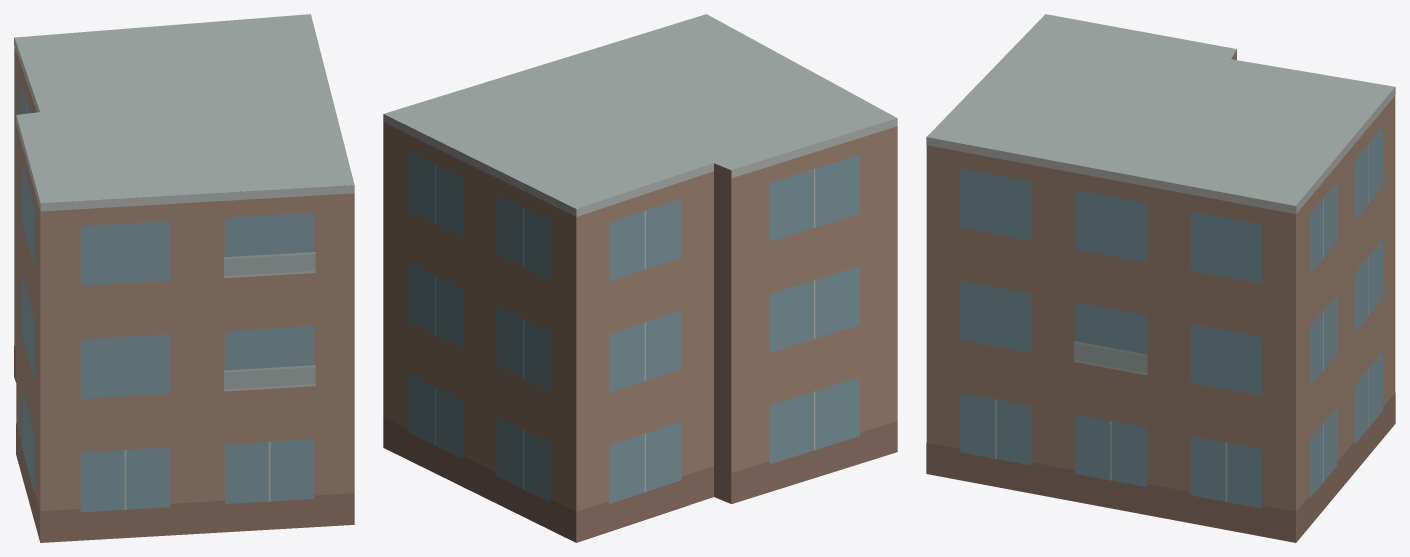
File: survey-upis-32669407.glb
3 views of the same model, side by side, from view 1: azimuth 30°, elevation 25°; view 2: azimuth 150°, elevation 25°; view 3: azimuth 270°, elevation 25° (orthographic).
Visible parts, largest first — view 1: survey-upis-32669407.tmp; view 2: survey-upis-32669407.tmp; view 3: survey-upis-32669407.tmp.
Boxes of the visible parts, bbox=[...] form: survey-upis-32669407.tmp: bbox=[14, 14, 354, 542]; survey-upis-32669407.tmp: bbox=[383, 14, 897, 542]; survey-upis-32669407.tmp: bbox=[926, 14, 1395, 542].
Bounding box in the file's own units: 12.36 × 10.1 × 12.76.
